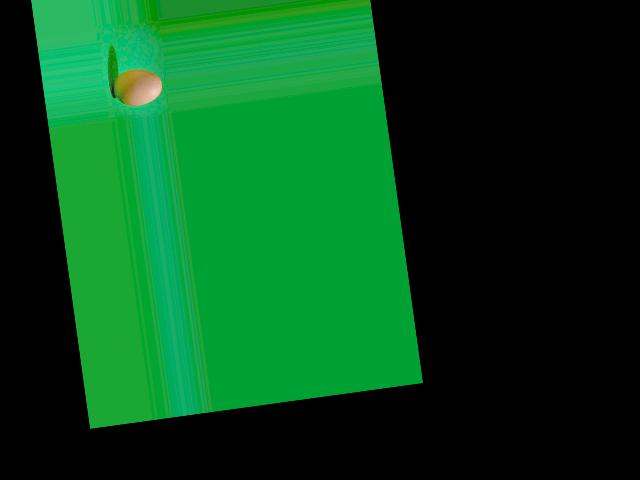egg: (110, 65, 163, 108)
